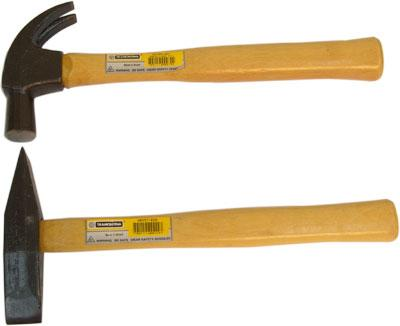hammer: (0, 0, 387, 143)
